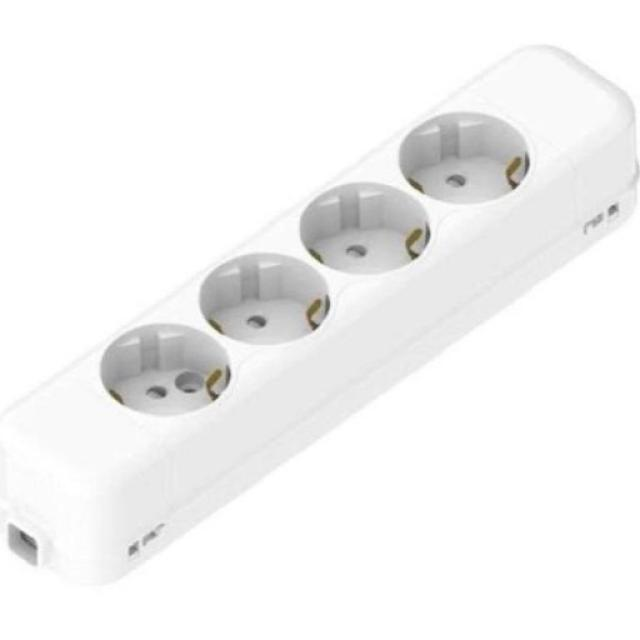typeb: (15, 2, 637, 587)
